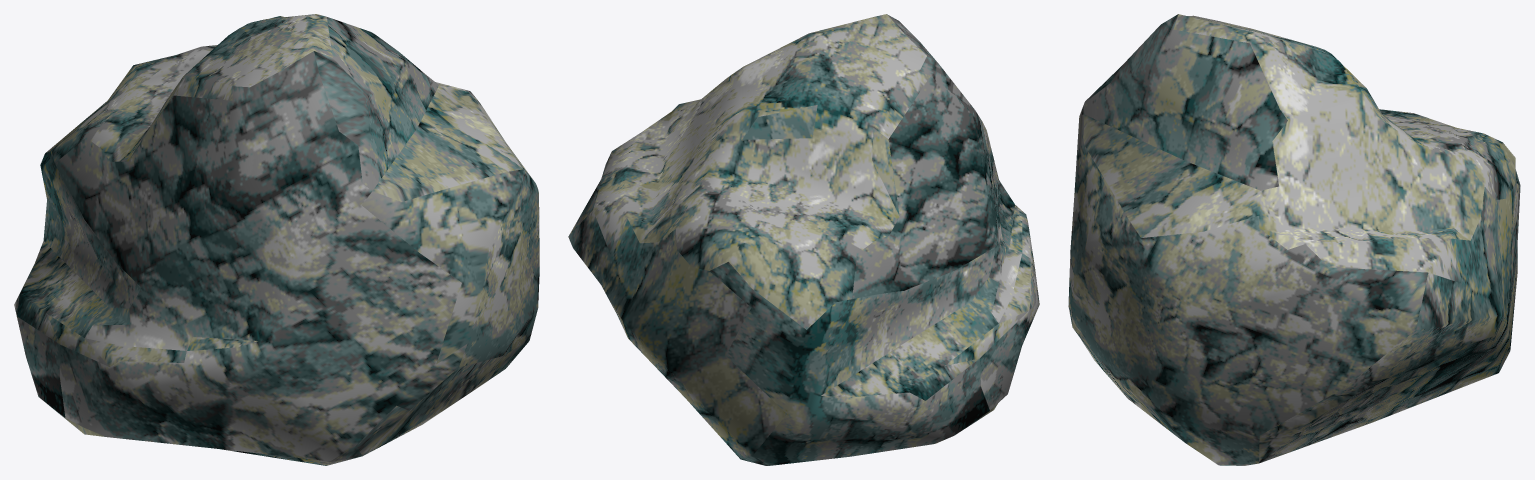
Rendered from rock1.fbx.
3 views of the same model, side by side, from view 1: azimuth 30°, elevation 25°; view 2: azimuth 150°, elevation 25°; view 3: azimuth 270°, elevation 25° (orthographic). The views are drawn at different scales.
Parts seen in each view (by area): view 1: rock_lowpoly; view 2: rock_lowpoly; view 3: rock_lowpoly.
Boxes of the visible parts, left/top/right/bottom form: rock_lowpoly: left=14, top=14, right=539, bottom=465; rock_lowpoly: left=568, top=14, right=1039, bottom=465; rock_lowpoly: left=1068, top=14, right=1520, bottom=465.
Size of the model in its own units: 1.51 by 1.34 by 1.48.
